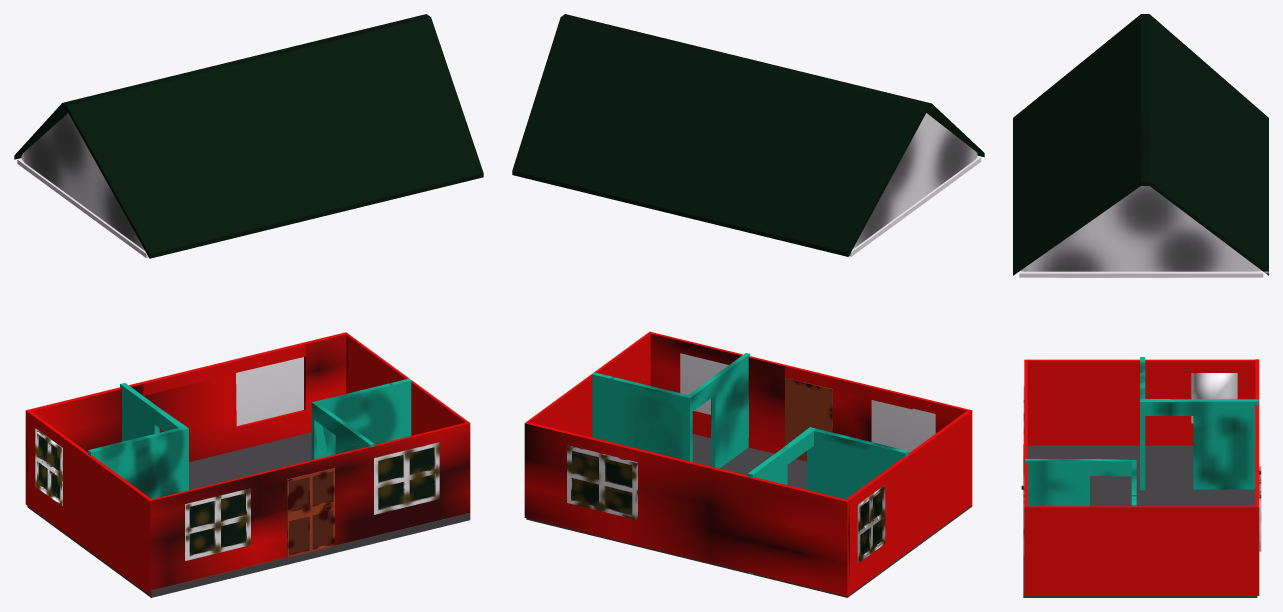
File: casaroja.fbx
3 renders of one model, left to right at view 1: azimuth 30°, elevation 25°; view 2: azimuth 150°, elevation 25°; view 3: azimuth 270°, elevation 25°, orthographic. The views are drawn at different scales.
Visible parts, largest first — view 1: Cube.002, Cube.008; view 2: Cube.002, Cube.008; view 3: Cube.002, Cube.008.
Part boxes in pixels (x1,y1,x2,y2): Cube.002: (25, 332, 470, 597); Cube.008: (14, 14, 483, 258); Cube.002: (524, 331, 972, 597); Cube.008: (512, 14, 984, 256); Cube.002: (1021, 357, 1261, 597); Cube.008: (1013, 14, 1268, 277).
Size of the model in its own units: 5210 by 6173 by 3352.
